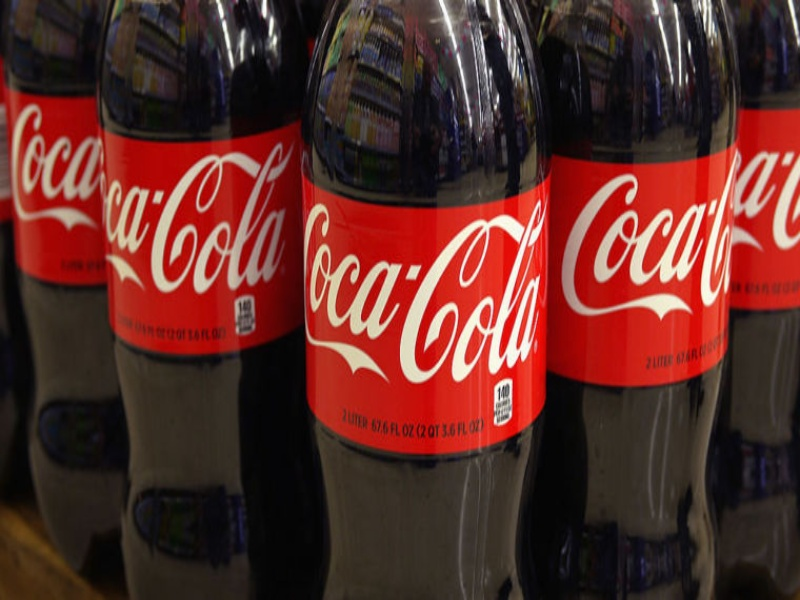Plastic bottle: (280, 21, 541, 596), (80, 13, 320, 588), (517, 2, 719, 592)
